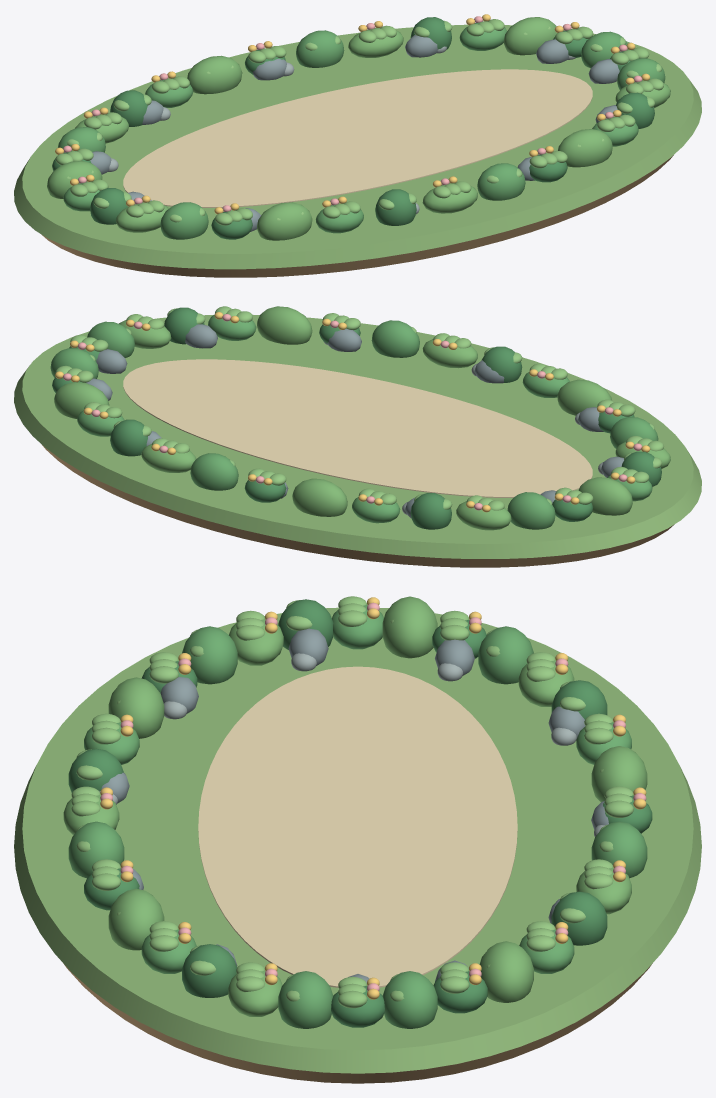
File: jardim-acolhedor.glb
3 views of the same model, one above another, from view 1: azimuth 30°, elevation 25°; view 2: azimuth 150°, elevation 25°; view 3: azimuth 270°, elevation 25° (orthographic). The views are drawn at different scales.
Parts seen in each view (by area): view 1: gramado, clareira, moita-2, moita-1, folha-0-0, moita-0, terra, pedra-0, flor-pequena-0-0, flor-pequena-0-1, pedrinha-0; view 2: gramado, clareira, moita-2, moita-1, moita-0, folha-0-0, terra, pedra-0, flor-pequena-0-0, flor-pequena-0-1; view 3: gramado, clareira, moita-1, moita-2, folha-0-0, moita-0, terra, pedra-0, flor-pequena-0-0, pedrinha-0, flor-pequena-0-1.
Part boxes in pixels (bbox=[...]): gramado: bbox=[14, 24, 701, 269]; clareira: bbox=[123, 69, 592, 207]; moita-2: bbox=[47, 17, 670, 240]; moita-1: bbox=[58, 21, 665, 239]; folha-0-0: bbox=[55, 19, 663, 225]; moita-0: bbox=[52, 17, 654, 239]; terra: bbox=[41, 155, 673, 277]; pedra-0: bbox=[90, 35, 619, 231]; flor-pequena-0-0: bbox=[55, 14, 650, 214]; flor-pequena-0-1: bbox=[63, 16, 642, 211]; pedrinha-0: bbox=[108, 46, 575, 215]; gramado: bbox=[14, 314, 701, 558]; clareira: bbox=[123, 359, 592, 497]; moita-2: bbox=[54, 306, 670, 530]; moita-1: bbox=[50, 315, 658, 529]; moita-0: bbox=[52, 307, 661, 529]; folha-0-0: bbox=[55, 306, 663, 510]; terra: bbox=[42, 445, 674, 567]; pedra-0: bbox=[86, 324, 623, 518]; flor-pequena-0-0: bbox=[55, 312, 650, 512]; flor-pequena-0-1: bbox=[63, 314, 642, 510]; gramado: bbox=[14, 607, 701, 1073]; clareira: bbox=[198, 666, 517, 987]; moita-1: bbox=[68, 604, 647, 1028]; moita-2: bbox=[63, 596, 647, 1016]; folha-0-0: bbox=[71, 596, 633, 1008]; moita-0: bbox=[68, 599, 652, 1027]; terra: bbox=[63, 963, 652, 1083]; pedra-0: bbox=[101, 628, 608, 982]; flor-pequena-0-0: bbox=[100, 597, 646, 999]; pedrinha-0: bbox=[99, 653, 604, 836]; flor-pequena-0-1: bbox=[100, 602, 646, 990].
Bounding box in the file's own units: 24.6 × 1.94 × 15.74.
